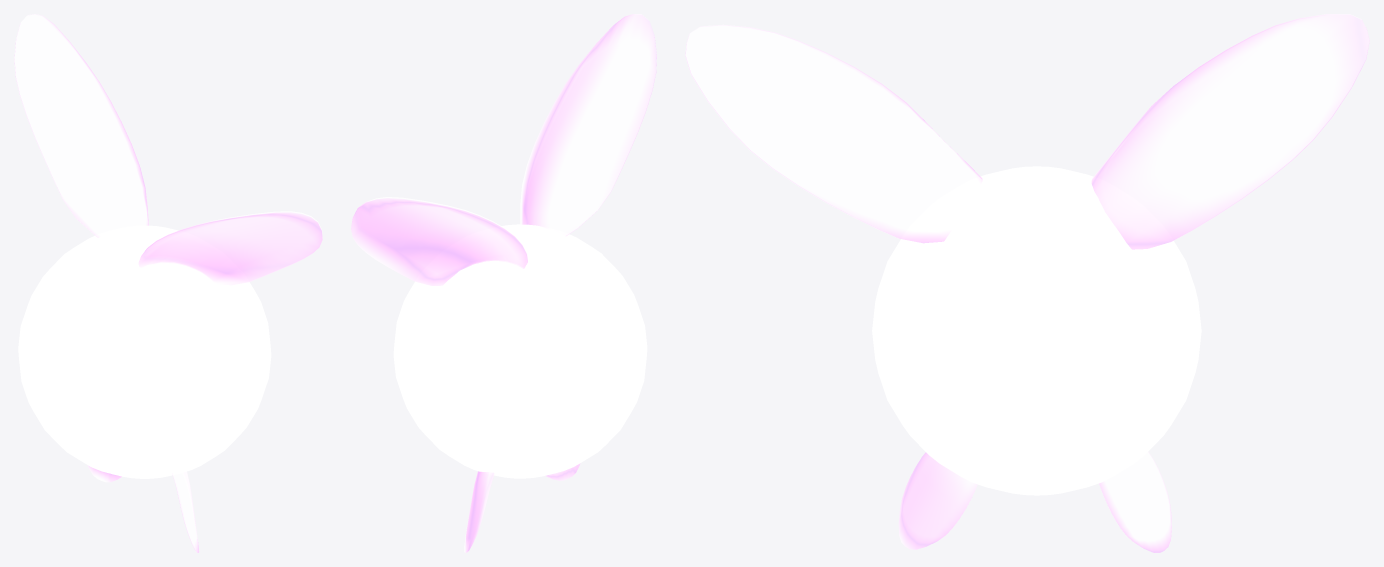
The model's file is tobyPink.gltf.
The picture shows the model from 3 angles, left to right: view 1: azimuth 30°, elevation 25°; view 2: azimuth 150°, elevation 25°; view 3: azimuth 270°, elevation 25°; orthographic projection. The views are drawn at different scales.
Parts seen in each view (by area): view 1: Sphere, Flying, Plane, Plane001; view 2: Sphere, Plane, Flying, Plane003; view 3: Sphere, Plane, Flying, Plane001, Plane003.
Boxes of the visible parts, x1,y1,x2,y2 form: Sphere: (18,225,271,478); Flying: (14,14,148,237); Plane: (138,211,322,285); Plane001: (172,471,199,552); Sphere: (393,224,647,478); Plane: (520,14,656,236); Flying: (351,197,527,285); Plane003: (464,471,494,552); Sphere: (872,166,1201,495); Plane: (685,24,982,243); Flying: (1091,14,1369,249); Plane001: (898,452,977,549); Plane003: (1099,451,1171,552).
Size of the model in its own units: 2 by 3.57 by 4.15.
